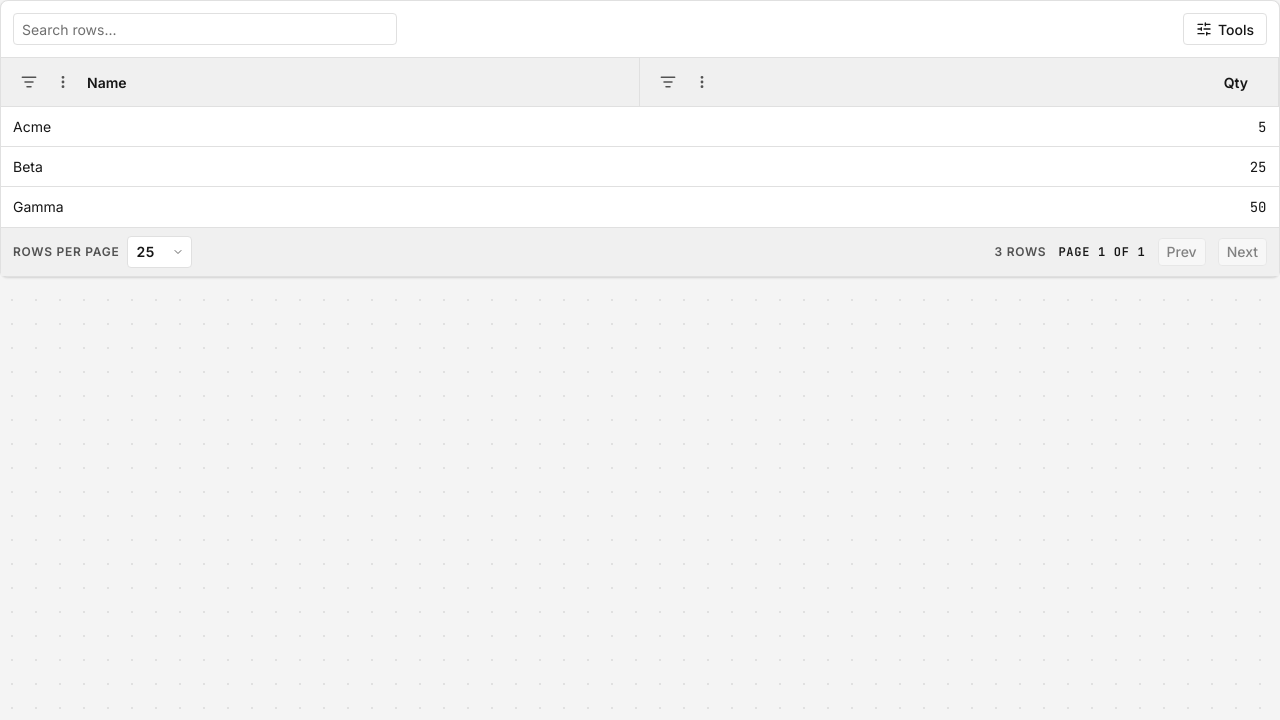
Test case: two-condition AND/OR filter › AND-combines two conditions set in the column menu
Click the button named "qty column menu".
click(702, 82)  # box [686, 66, 718, 98]
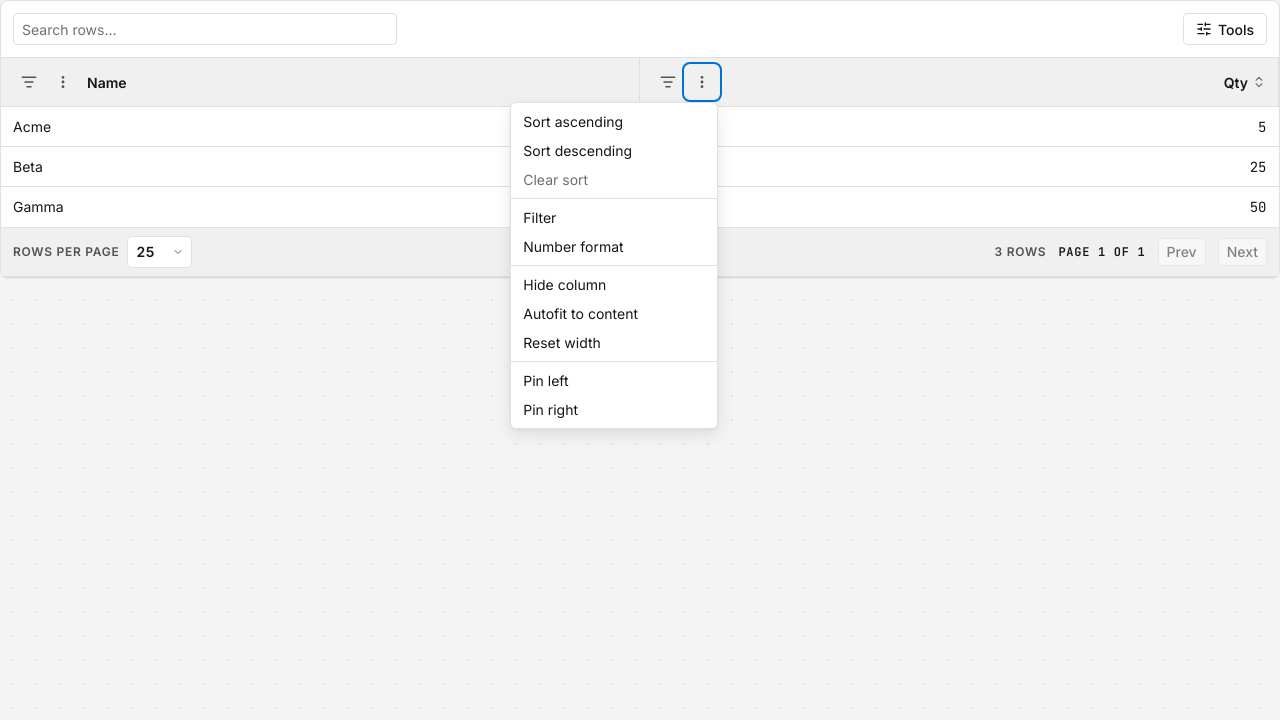
Click the menu item "Filter".
click(614, 218)  # box [511, 203, 717, 232]
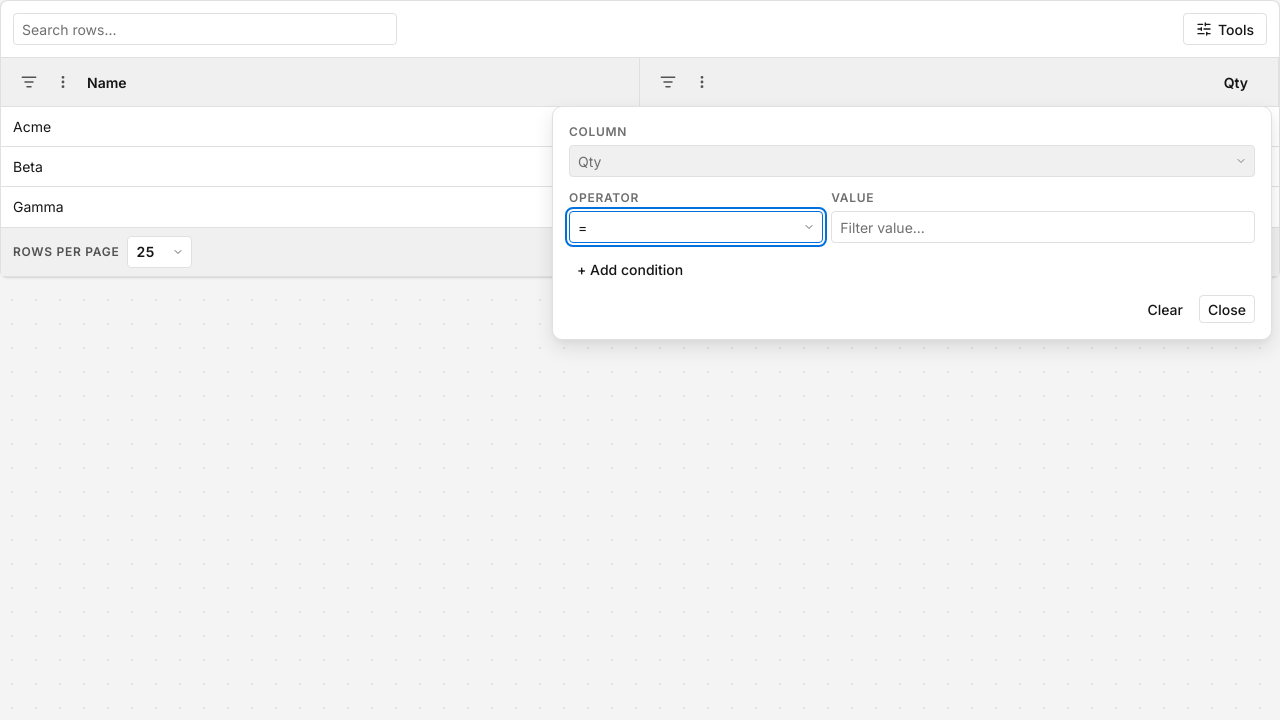
Select "≥" in the dropdown named "qty filter operator" at (696, 227), box [569, 211, 823, 243]
Type "10" into the number field named "qty filter value".
click(1043, 227); type("10")  # box [831, 211, 1255, 243]
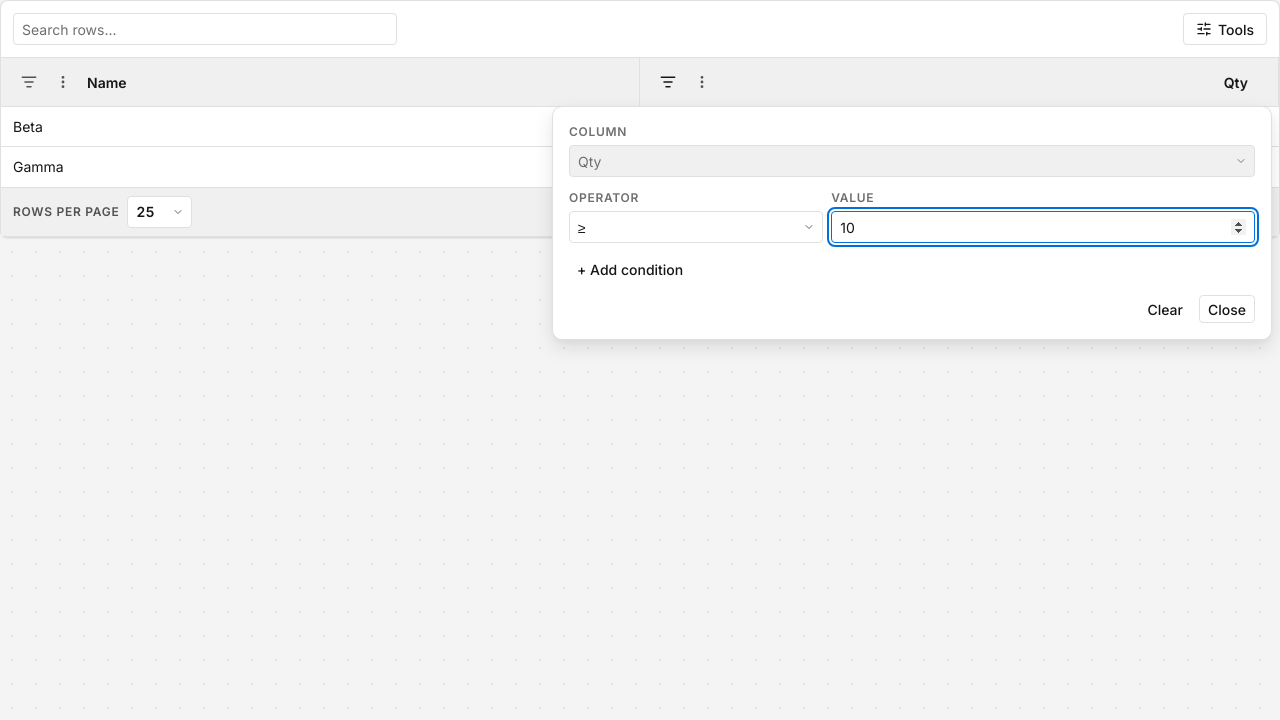
Click the button "+ Add condition".
click(630, 269)  # box [569, 255, 691, 283]
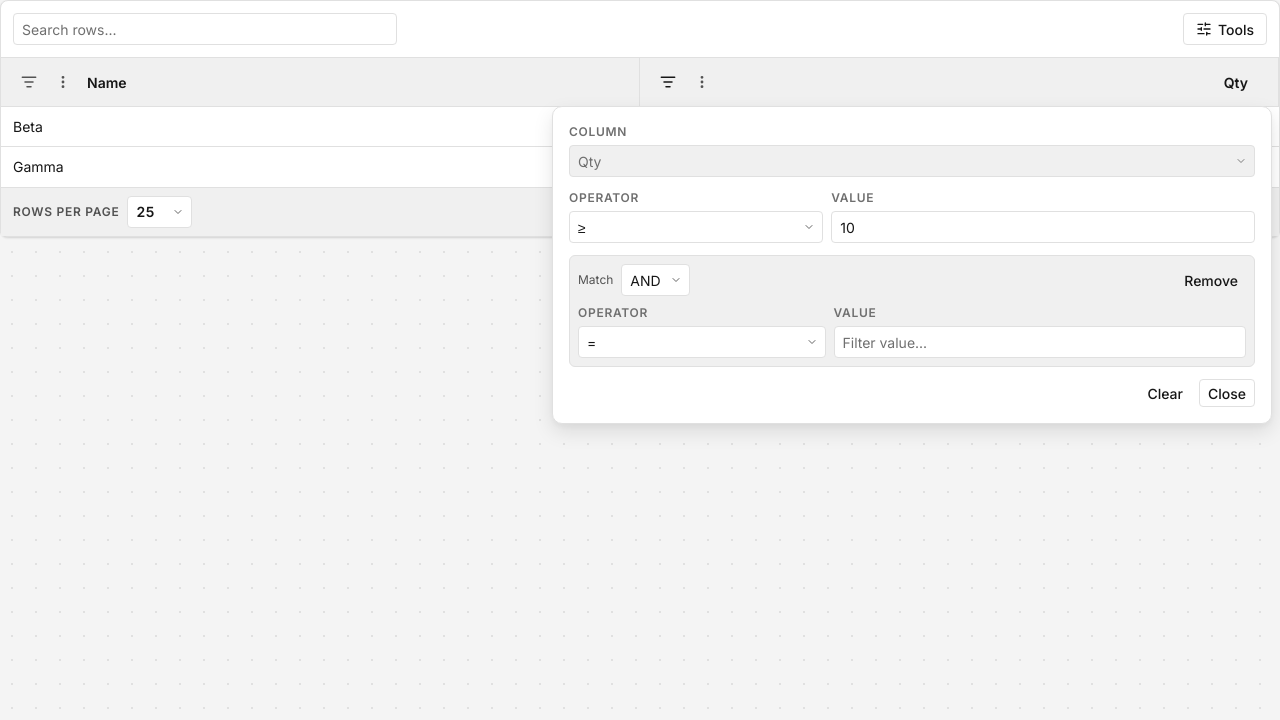
Select "≤" in the dropdown named "qty second filter operator" at (702, 342), box [578, 326, 826, 358]
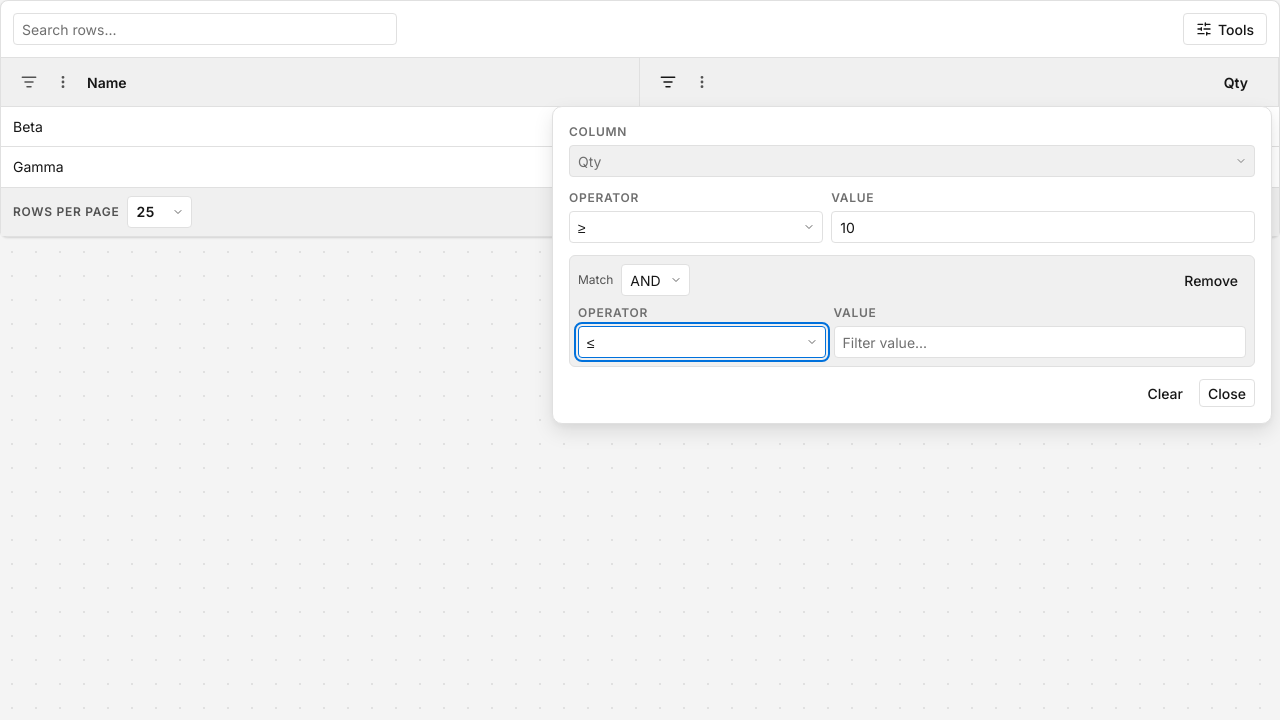
Type "40" into the number field named "qty second filter value".
click(1040, 342); type("40")  # box [834, 326, 1246, 358]
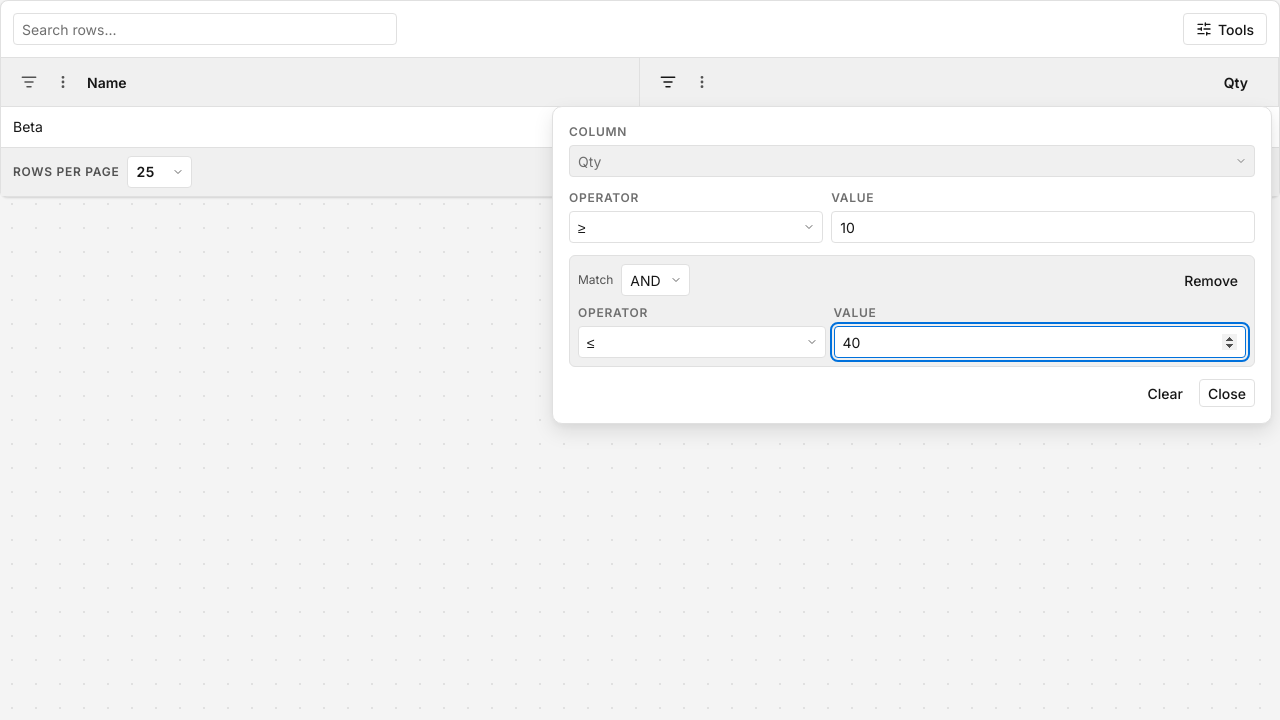
Check: the text "Beta" is shown, box [1, 106, 640, 146]
Check: the text "Gamma" is gone
